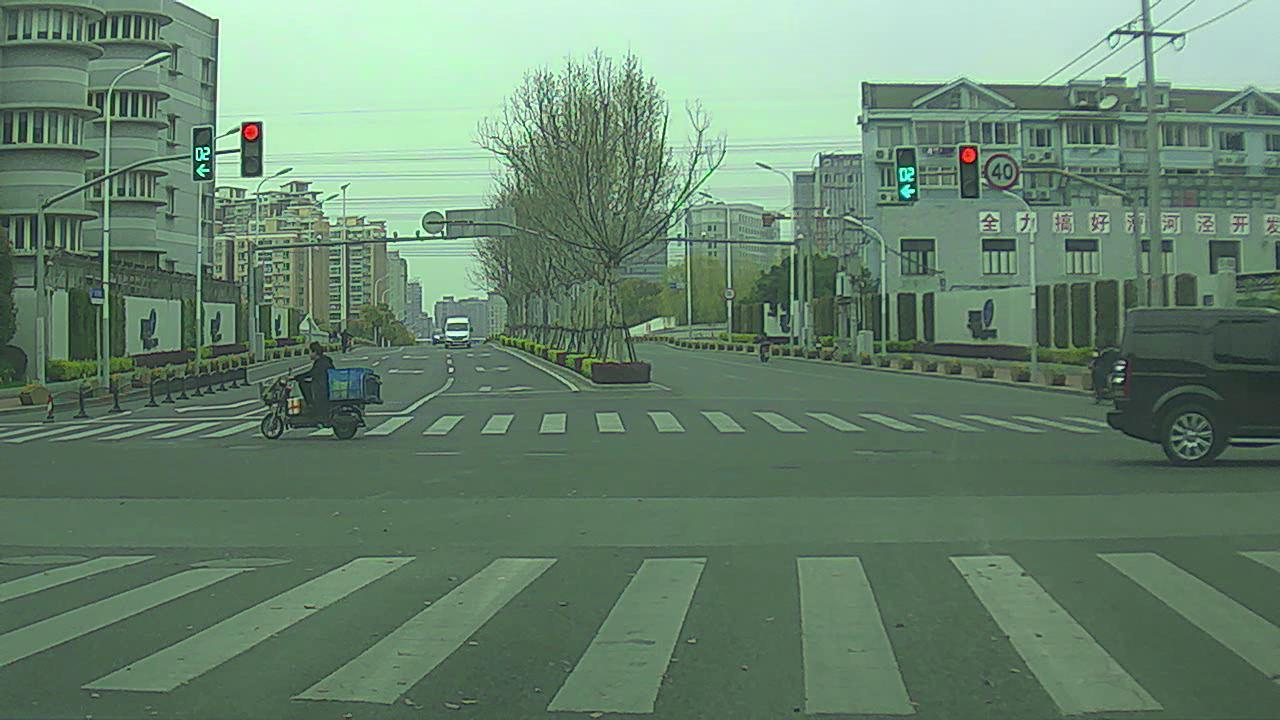traffic_light: (894, 142, 923, 203), (959, 141, 983, 201), (239, 121, 262, 183), (192, 126, 215, 184)
